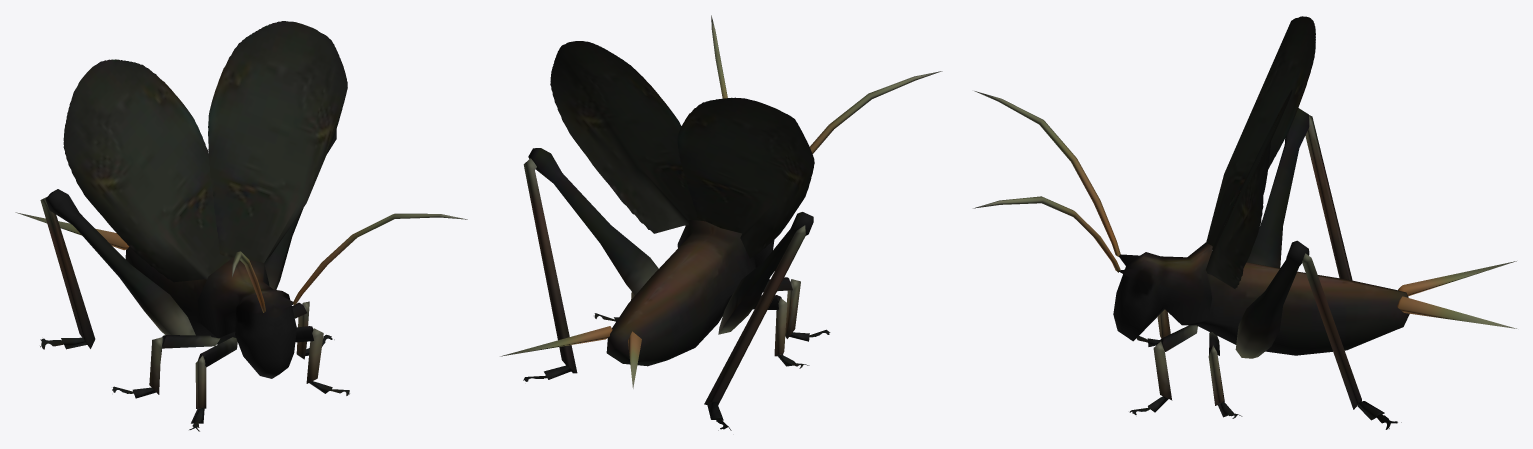
Rendered from bell-cricket.glb.
The picture shows the model from 3 angles, left to right: view 1: azimuth 30°, elevation 25°; view 2: azimuth 150°, elevation 25°; view 3: azimuth 270°, elevation 25°; orthographic projection. The views are drawn at different scales.
Bounding box in the file's own units: 2.27 × 2.46 × 3.66.
1 material, 1 textured.
